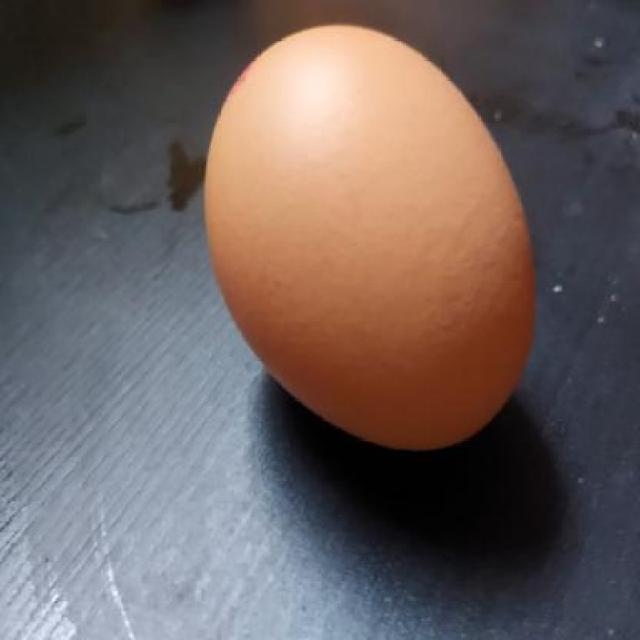biodegradable: (200, 21, 536, 452)
